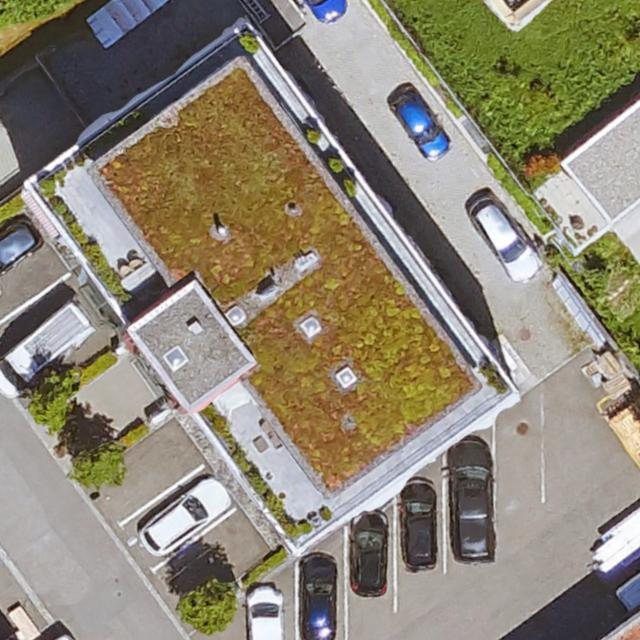tree: (178, 580, 237, 634), (26, 367, 74, 427), (69, 440, 126, 485)
